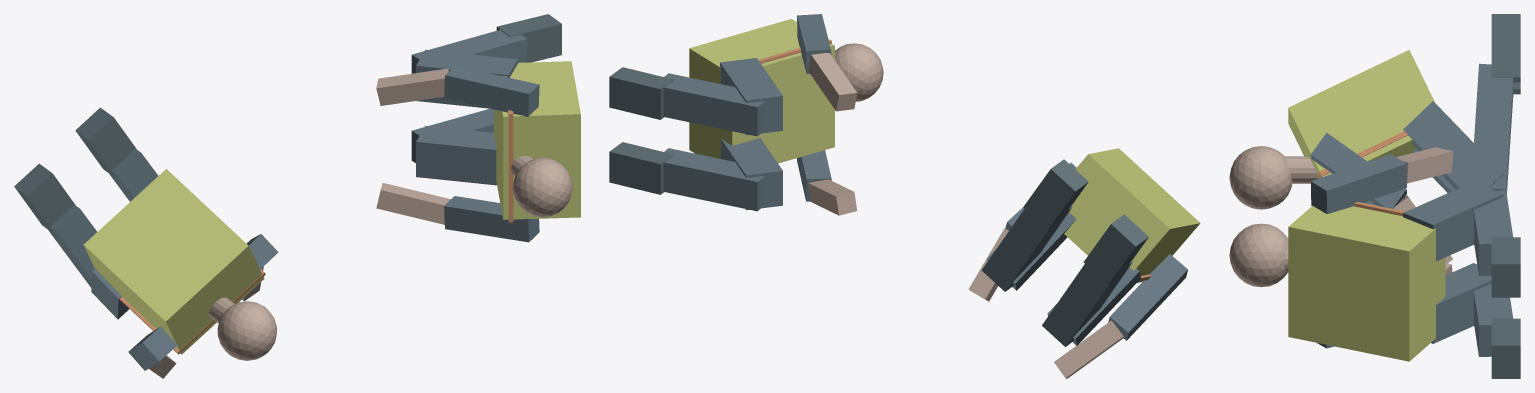
3 renders of one model, left to right at view 1: azimuth 30°, elevation 25°; view 2: azimuth 150°, elevation 25°; view 3: azimuth 270°, elevation 25°, orthographic. The views are drawn at different scales.
Visible parts, largest first — view 1: worker_0_torso, worker_1_torso, worker_1_thigh1, worker_1_upperarm-1, worker_1_head, worker_0_head, worker_1_upperarm1, worker_0_boot-1, worker_0_boot1, worker_1_thigh-1, worker_1_forearm-1, worker_1_shin-1 (+10 smaller); view 2: worker_1_torso, worker_0_torso, worker_1_shin1, worker_1_shin-1, worker_0_shin1, worker_0_shin-1, worker_0_upperarm-1, worker_1_thigh-1, worker_0_boot1, worker_1_boot-1, worker_0_boot-1, worker_1_boot1 (+10 smaller); view 3: worker_1_torso, worker_0_torso, worker_0_thigh1, worker_1_upperarm-1, worker_1_thigh-1, worker_0_shin1, worker_0_head, worker_1_head, worker_1_thigh1, worker_1_shin-1, worker_0_boot1, worker_1_boot-1 (+8 smaller).
Part boxes in pixels (x1=…): worker_0_torso: x1=83, y1=169, x2=264, y2=354; worker_1_torso: x1=494, y1=61, x2=580, y2=219; worker_1_thigh1: x1=416, y1=126, x2=496, y2=185; worker_1_upperarm-1: x1=444, y1=66, x2=539, y2=116; worker_1_head: x1=512, y1=157, x2=572, y2=217; worker_0_head: x1=217, y1=301, x2=276, y2=360; worker_1_upperarm1: x1=444, y1=196, x2=539, y2=242; worker_0_boot-1: x1=14, y1=163, x2=75, y2=234; worker_0_boot1: x1=75, y1=107, x2=136, y2=178; worker_1_thigh-1: x1=416, y1=49, x2=517, y2=108; worker_1_forearm-1: x1=376, y1=68, x2=449, y2=105; worker_1_shin-1: x1=411, y1=30, x2=527, y2=73; worker_1_torso: x1=689, y1=19, x2=834, y2=163; worker_0_torso: x1=1064, y1=148, x2=1200, y2=282; worker_1_shin1: x1=663, y1=148, x2=764, y2=211; worker_1_shin-1: x1=663, y1=73, x2=764, y2=136; worker_0_shin1: x1=981, y1=206, x2=1072, y2=291; worker_0_shin-1: x1=1042, y1=261, x2=1132, y2=346; worker_0_upperarm-1: x1=1108, y1=254, x2=1187, y2=340; worker_1_thigh-1: x1=720, y1=58, x2=782, y2=135; worker_0_boot1: x1=1023, y1=159, x2=1088, y2=229; worker_1_boot-1: x1=609, y1=67, x2=673, y2=119; worker_0_boot-1: x1=1083, y1=214, x2=1148, y2=284; worker_1_boot1: x1=609, y1=142, x2=673, y2=194; worker_1_torso: x1=1288, y1=206, x2=1445, y2=361; worker_0_torso: x1=1288, y1=50, x2=1434, y2=177; worker_0_thigh1: x1=1403, y1=101, x2=1503, y2=189; worker_1_upperarm-1: x1=1311, y1=154, x2=1406, y2=214; worker_1_thigh-1: x1=1403, y1=182, x2=1503, y2=261; worker_0_shin1: x1=1474, y1=63, x2=1513, y2=190; worker_0_head: x1=1229, y1=146, x2=1292, y2=209; worker_1_head: x1=1229, y1=223, x2=1288, y2=287; worker_1_thigh1: x1=1431, y1=263, x2=1491, y2=343; worker_1_shin-1: x1=1474, y1=190, x2=1512, y2=275; worker_0_boot1: x1=1491, y1=14, x2=1520, y2=82; worker_1_boot-1: x1=1491, y1=237, x2=1520, y2=297.
Bounding box in the file's own units: 2.06 × 0.9406 × 0.91.
